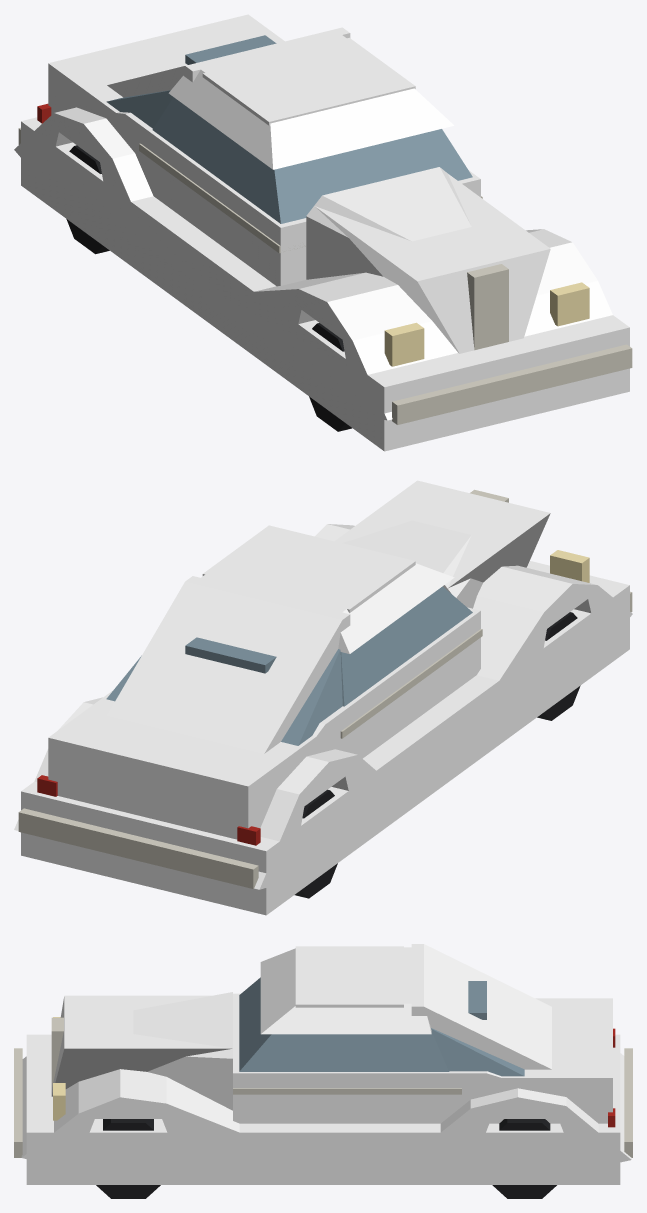
File: motorcar.glb
3 views of the same model, one above another, from view 1: azimuth 30°, elevation 25°; view 2: azimuth 150°, elevation 25°; view 3: azimuth 270°, elevation 25° (orthographic). The views are drawn at different scales.
Visible parts, largest first — view 1: model, far; view 2: far, model; view 3: model, far.
Part boxes in pixels (bbox=[...]): model: bbox=[14, 27, 632, 431]; far: bbox=[21, 14, 629, 451]; far: bbox=[21, 480, 629, 915]; model: bbox=[14, 489, 632, 898]; model: bbox=[14, 944, 632, 1198]; far: bbox=[26, 946, 620, 1184].
Size of the model in its own units: 1.84 by 1.55 by 4.92.
